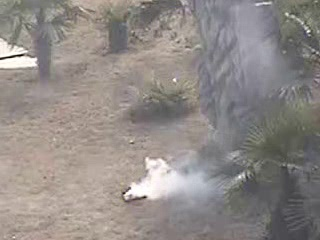smoke: (123, 154, 225, 206)
